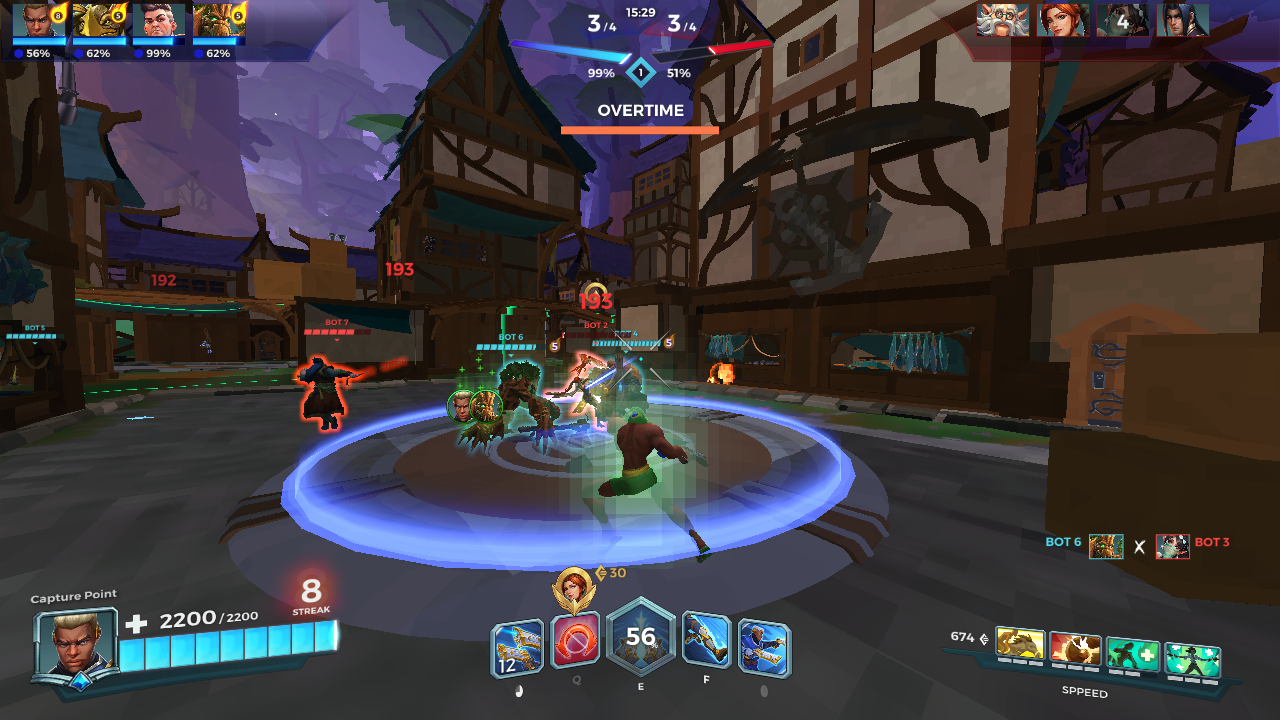model: (294, 351, 356, 439), (566, 351, 610, 428)
